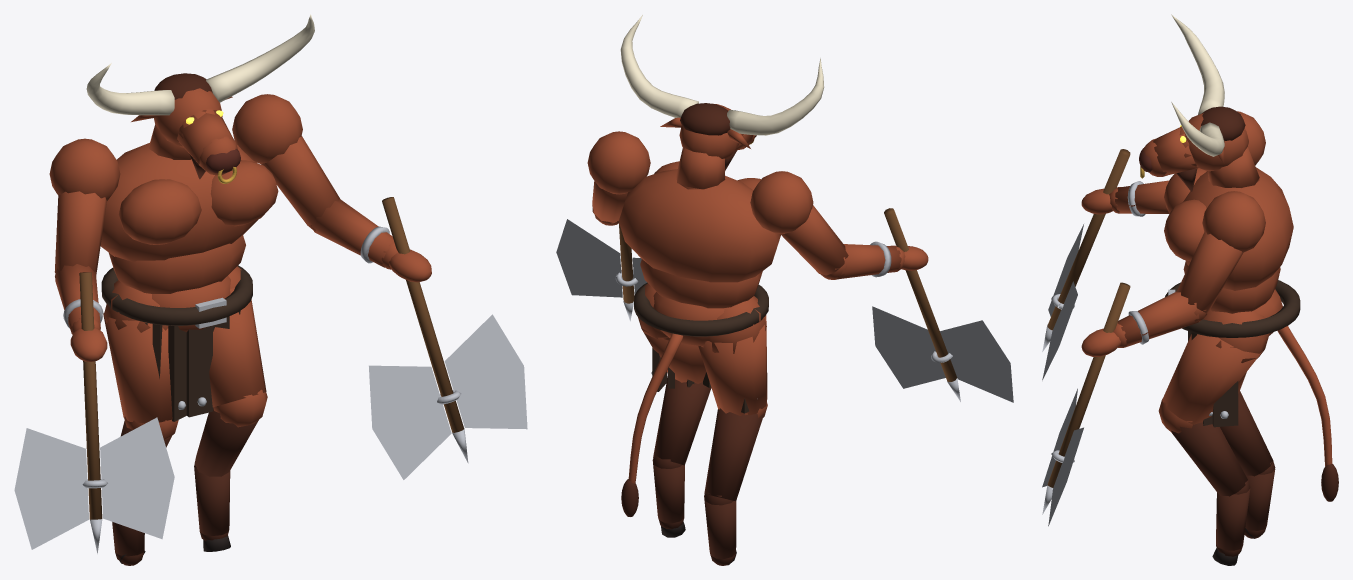
Rendered from minotaur.glb.
The picture shows the model from 3 angles, left to right: view 1: azimuth 30°, elevation 25°; view 2: azimuth 150°, elevation 25°; view 3: azimuth 270°, elevation 25°; orthographic projection. The views are drawn at different scales.
Parts seen in each view (by area): view 1: torso, hand_R, hand_L, head, pelvis, upperarm_L, upperarm_R, thigh_R, thigh_L, shin_L, forearm_L, forearm_R (+1 smaller); view 2: torso, hand_R, head, thigh_R, shin_R, upperarm_R, shin_L, hand_L, pelvis, upperarm_L, tail, forearm_R (+1 smaller); view 3: torso, head, thigh_L, upperarm_L, shin_L, hand_L, hand_R, pelvis, shin_R, forearm_L, tail, forearm_R (+1 smaller).
Boxes of the visible parts, bbox=[...] form: torso: bbox=[100, 124, 278, 293]; hand_R: bbox=[14, 272, 174, 553]; hand_L: bbox=[369, 197, 527, 479]; head: bbox=[86, 14, 314, 183]; pelvis: bbox=[101, 265, 252, 421]; upperarm_L: bbox=[232, 94, 339, 229]; upperarm_R: bbox=[49, 138, 120, 275]; thigh_R: bbox=[103, 280, 178, 440]; thigh_L: bbox=[209, 266, 267, 427]; shin_L: bbox=[194, 408, 258, 541]; forearm_L: bbox=[308, 198, 398, 269]; forearm_R: bbox=[55, 264, 103, 334]; torso: bbox=[618, 148, 780, 308]; hand_R: bbox=[872, 208, 1013, 402]; head: bbox=[620, 15, 824, 170]; thigh_R: bbox=[698, 296, 767, 417]; shin_R: bbox=[704, 408, 764, 565]; upperarm_R: bbox=[750, 171, 848, 279]; shin_L: bbox=[652, 376, 711, 529]; hand_L: bbox=[556, 219, 646, 321]; pelvis: bbox=[634, 282, 768, 413]; upperarm_L: bbox=[587, 131, 650, 224]; tail: bbox=[621, 333, 682, 516]; forearm_R: bbox=[819, 241, 905, 279]; torso: bbox=[1164, 147, 1293, 313]; head: bbox=[1139, 14, 1248, 191]; thigh_L: bbox=[1158, 310, 1269, 433]; upperarm_L: bbox=[1177, 191, 1265, 320]; shin_L: bbox=[1171, 422, 1250, 556]; hand_L: bbox=[1042, 282, 1130, 526]; hand_R: bbox=[1042, 149, 1130, 380]; pelvis: bbox=[1165, 280, 1300, 427]; shin_R: bbox=[1220, 391, 1275, 538]; forearm_L: bbox=[1113, 291, 1206, 347]; tail: bbox=[1277, 326, 1338, 501]; forearm_R: bbox=[1109, 180, 1169, 216].
Size of the model in its own units: 2.97 by 3.08 by 1.67.
